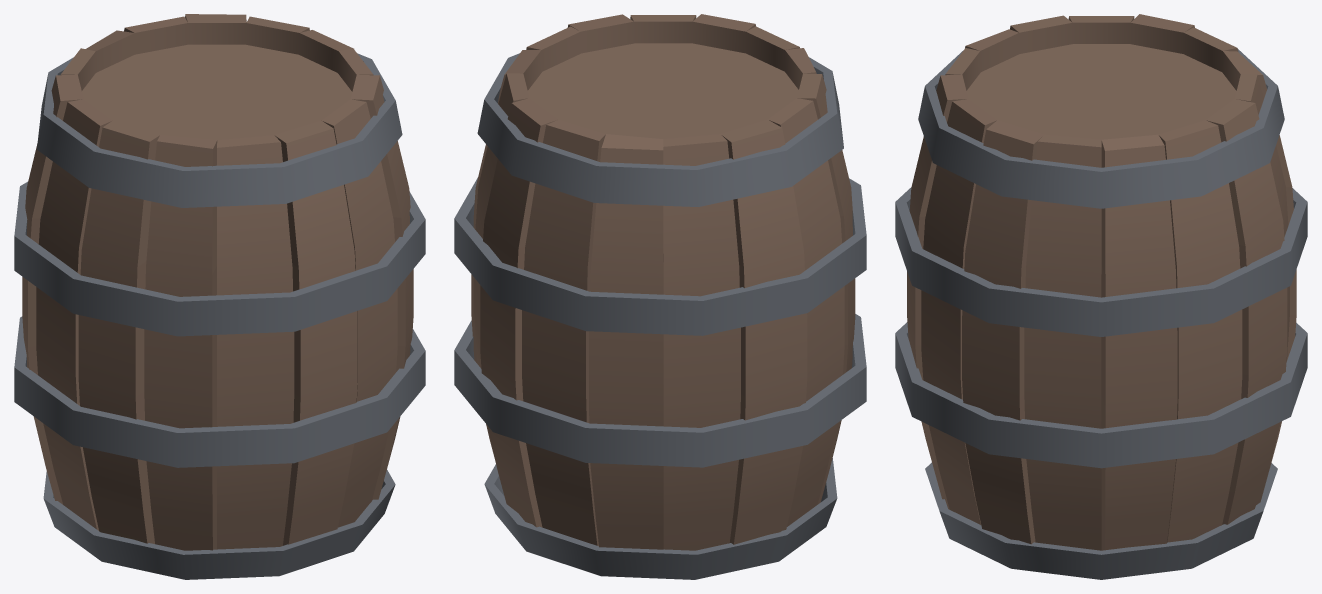
Rendered from Barrel.fbx.
The picture shows the model from 3 angles, left to right: view 1: azimuth 30°, elevation 25°; view 2: azimuth 150°, elevation 25°; view 3: azimuth 270°, elevation 25°; orthographic projection.
Parts seen in each view (by area): view 1: barrel; view 2: barrel; view 3: barrel.
Boxes of the visible parts, x1,y1,x2,y2 form: barrel: (14, 14, 425, 579); barrel: (454, 14, 866, 579); barrel: (895, 14, 1307, 579).
Size of the model in its own units: 72.07 by 83.52 by 72.81.
